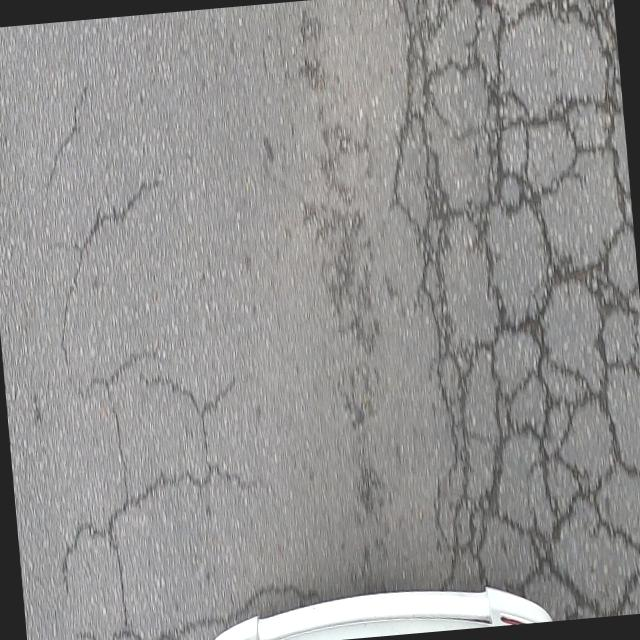Retak-Buaya: (392, 0, 640, 620)
